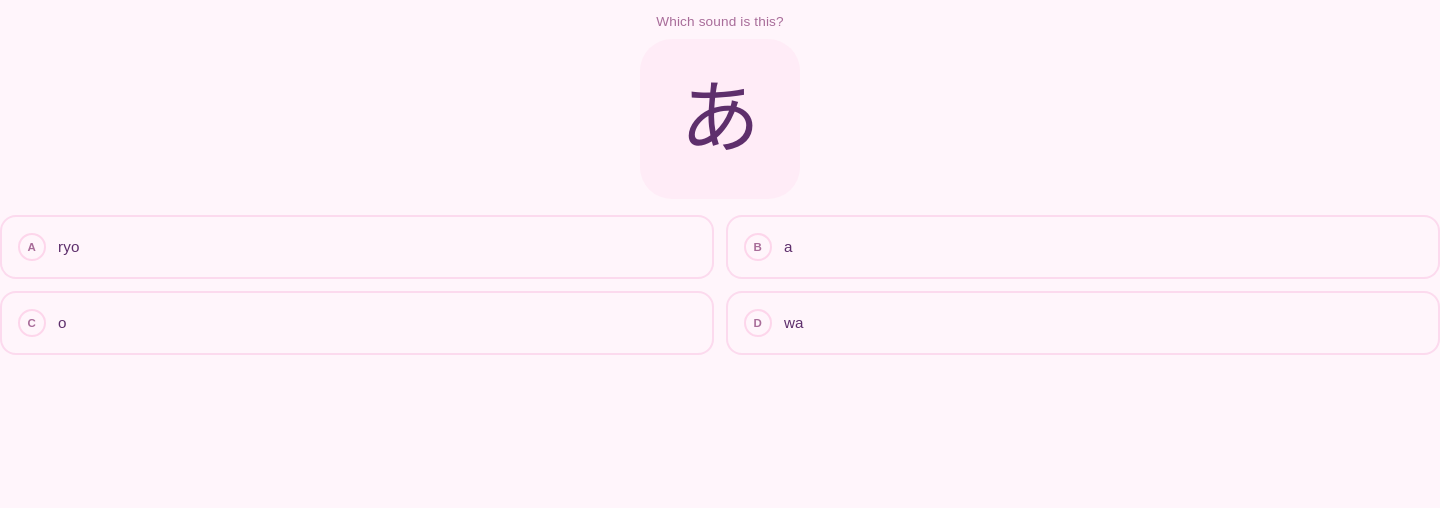
it: RecognizeDrill › should offer a hint only after a wrong answer, and only behind a tap
Click the button "A ryo" at (32, 247), box [0, 215, 714, 279]
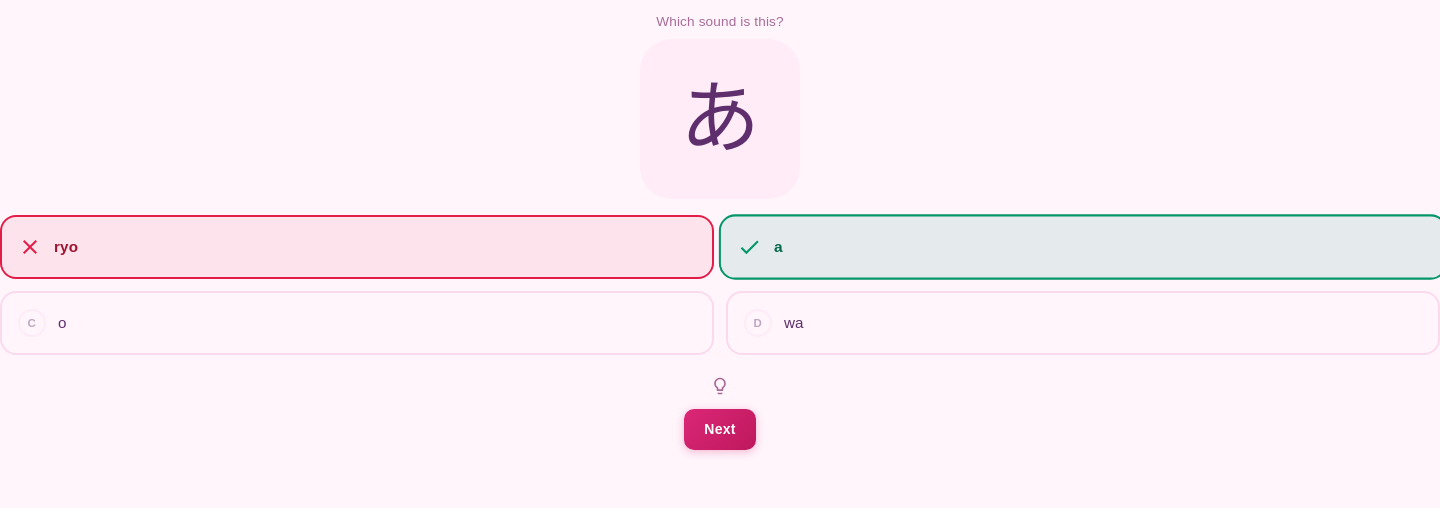
Check: the text "ribbon" is not shown
Click the button named "Show a hint" at (720, 386), box [705, 371, 735, 401]
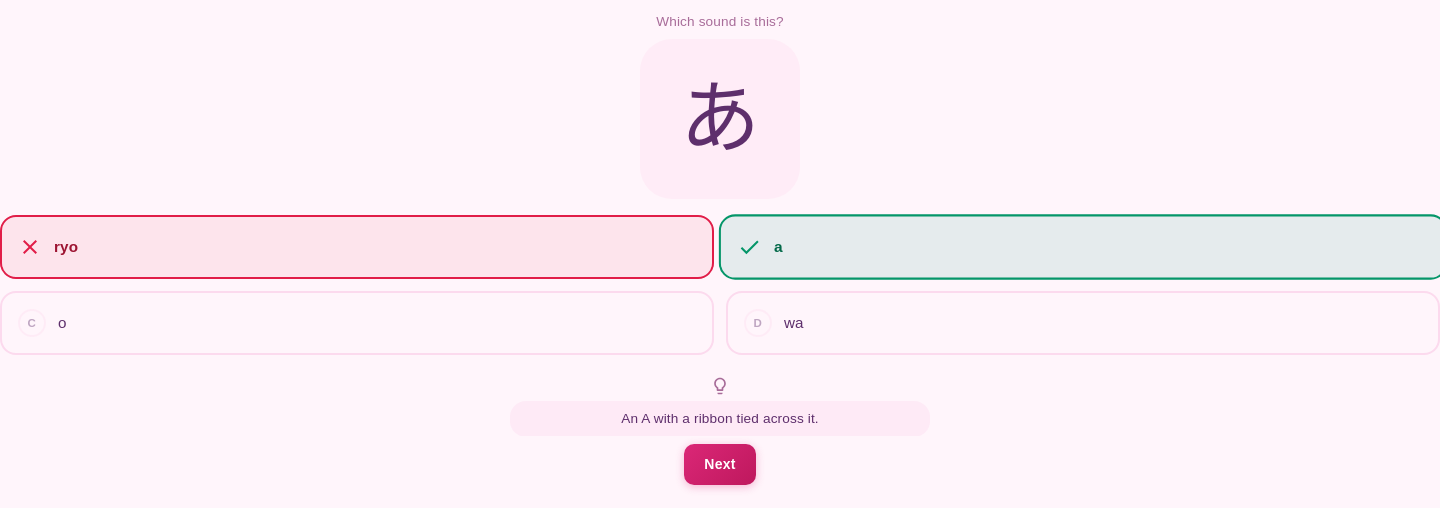
Check: the text "An A with a ribbon tied across it." is shown, box [510, 401, 930, 436]
